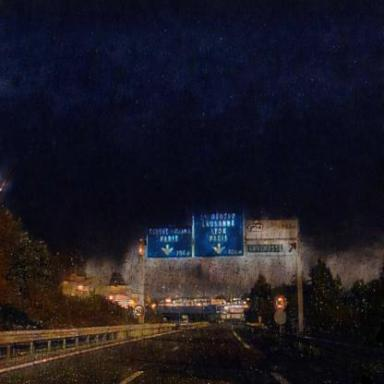Speed_limit_90: (275, 297, 287, 311)
